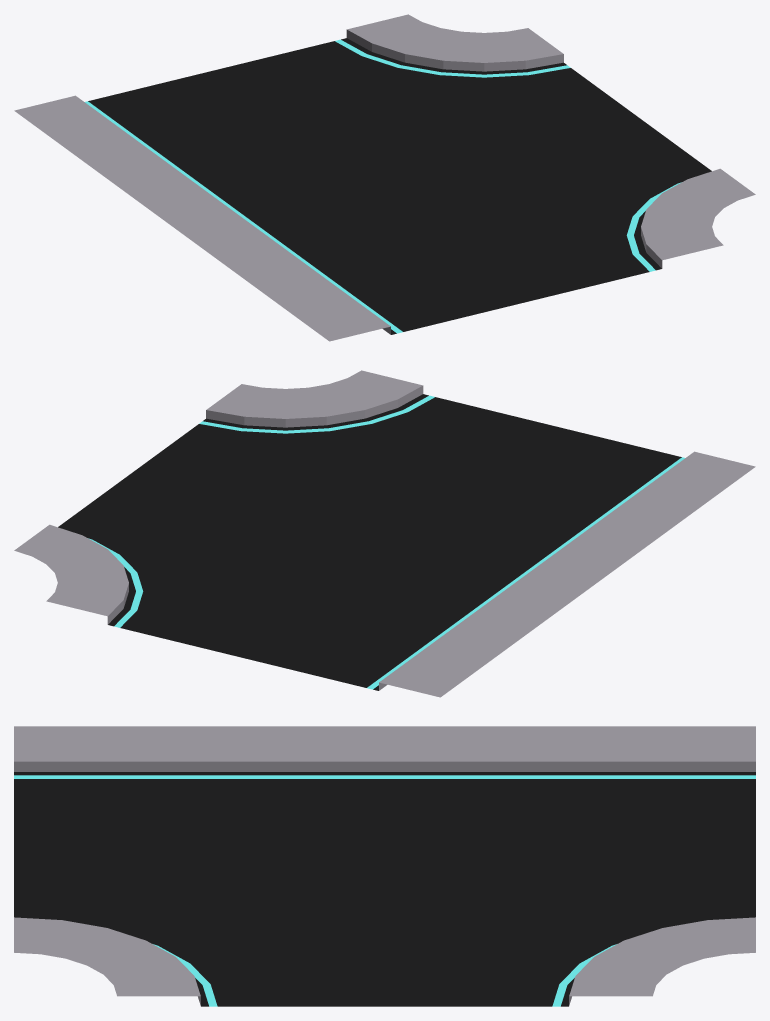
File: 2-vias-cruce.fbx
3 renders of one model, top to bottom at view 1: azimuth 30°, elevation 25°; view 2: azimuth 150°, elevation 25°; view 3: azimuth 270°, elevation 25°, orthographic. The views are drawn at different scales.
Parts seen in each view (by area): view 1: Model; view 2: Model; view 3: Model.
Boxes of the visible parts, x1,y1,x2,y2 form: Model: [14, 14, 755, 341]; Model: [14, 370, 755, 697]; Model: [14, 726, 755, 1006].
Bounding box in the file's own units: 11.45 × 0.2 × 13.3.
